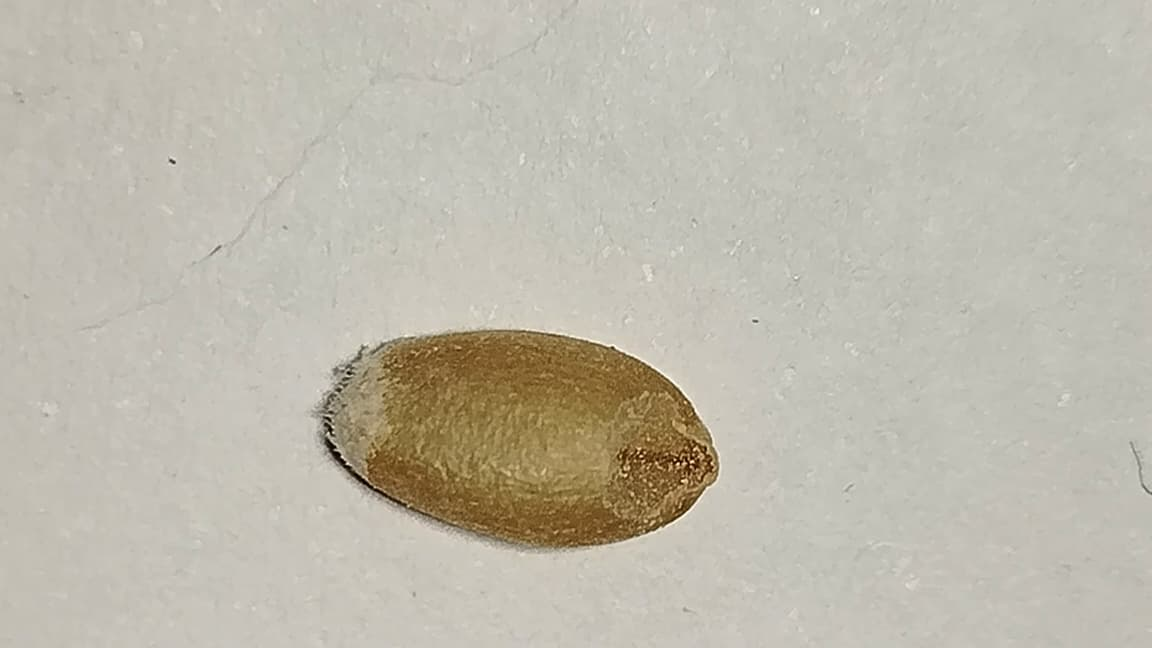damage: (322, 329, 717, 545)
insectdamage: (603, 392, 719, 519)
